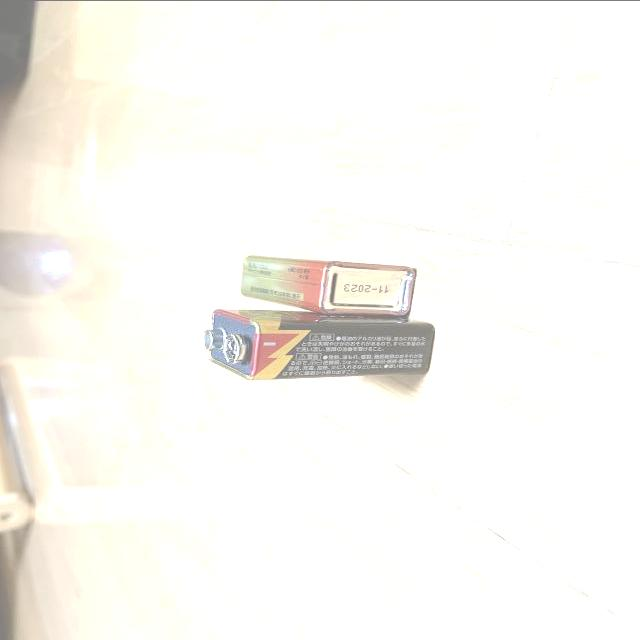9V: (200, 308, 436, 381), (238, 253, 418, 321)
